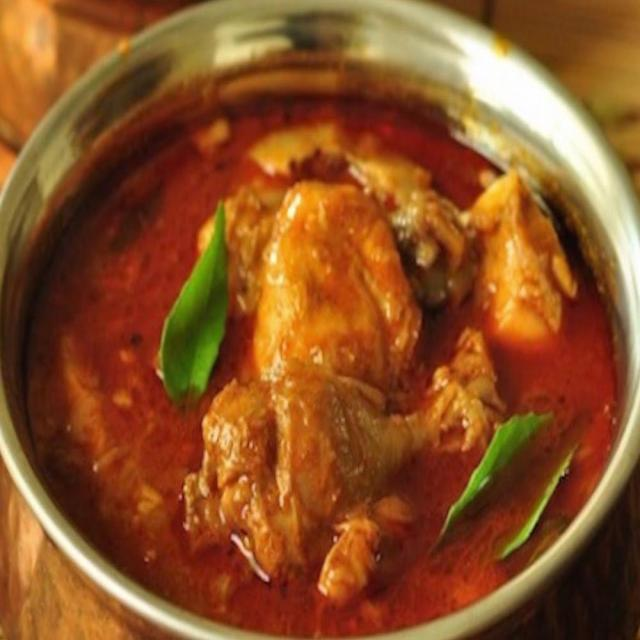chicken: (0, 66, 638, 640)
